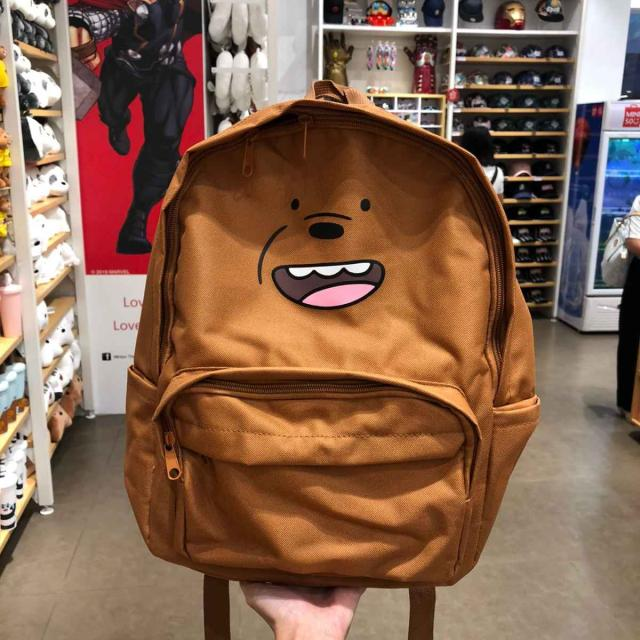Handbag: (112, 69, 544, 599)
